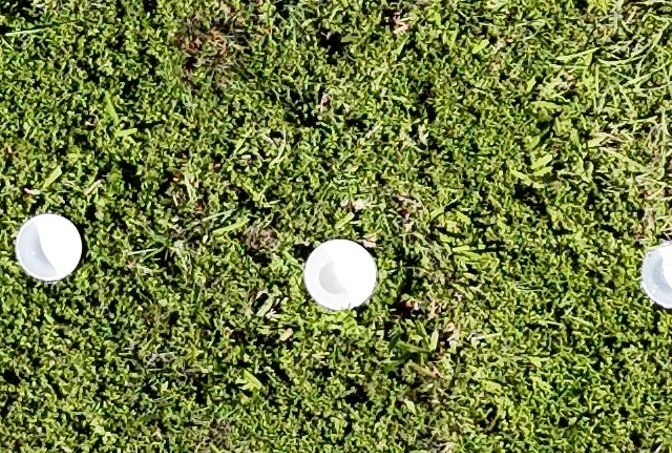bowl: (13, 211, 83, 285), (302, 242, 377, 311), (638, 240, 672, 309)
